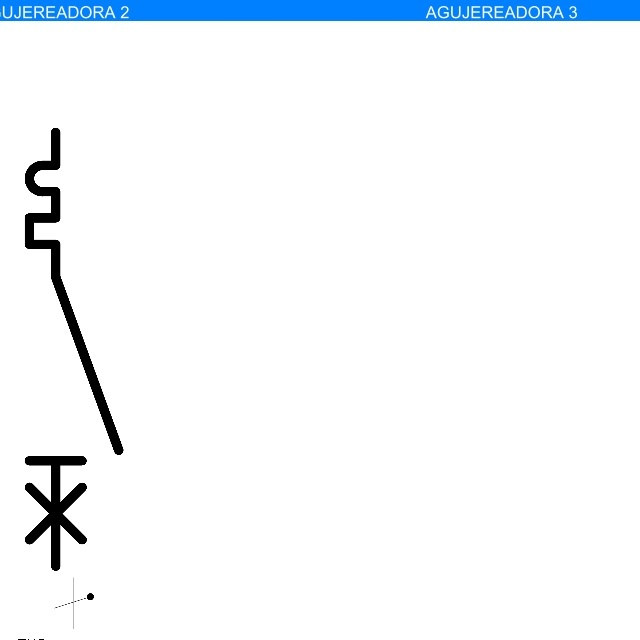interruptor_termomagnetico: (18, 121, 129, 577)
